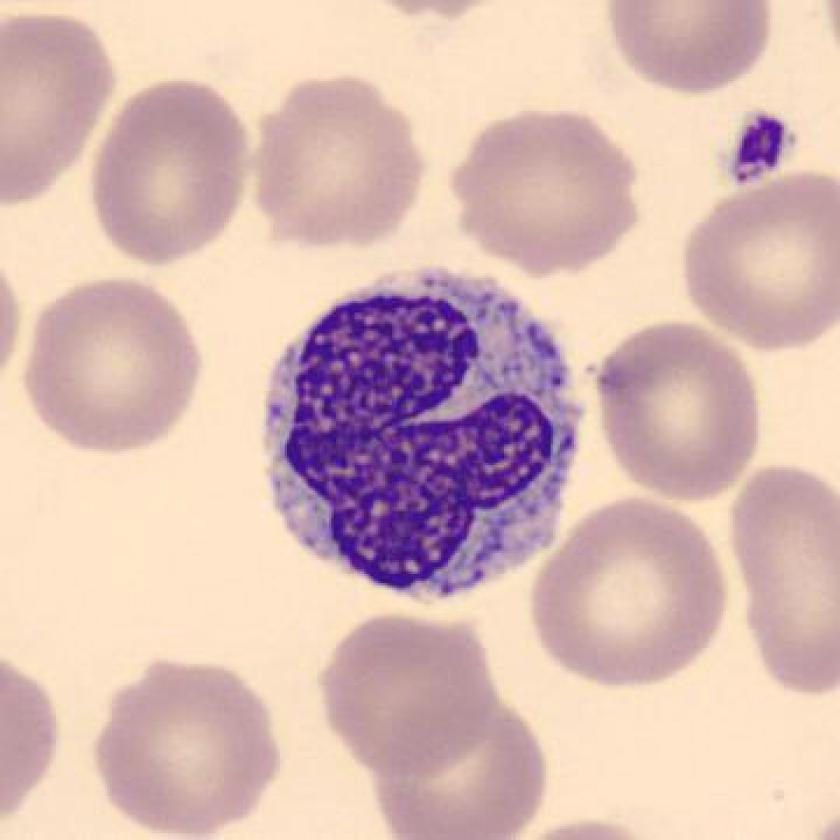monocyte: (234, 249, 603, 612)
